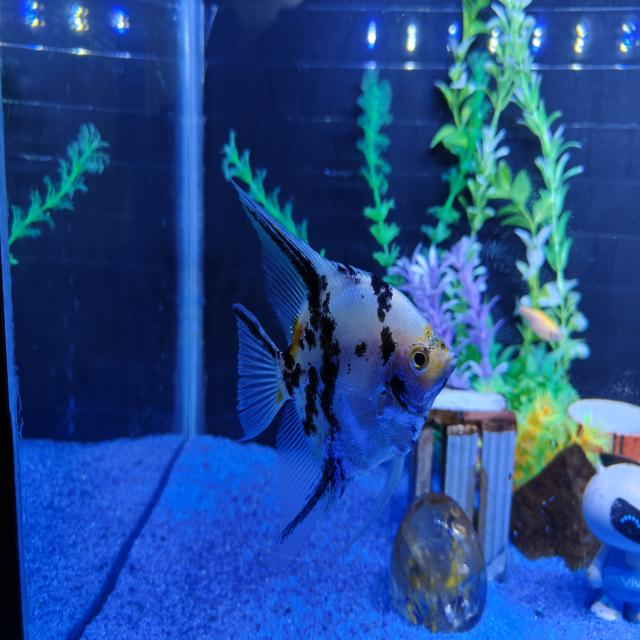Fish: (234, 185, 456, 573), (519, 305, 562, 341)
